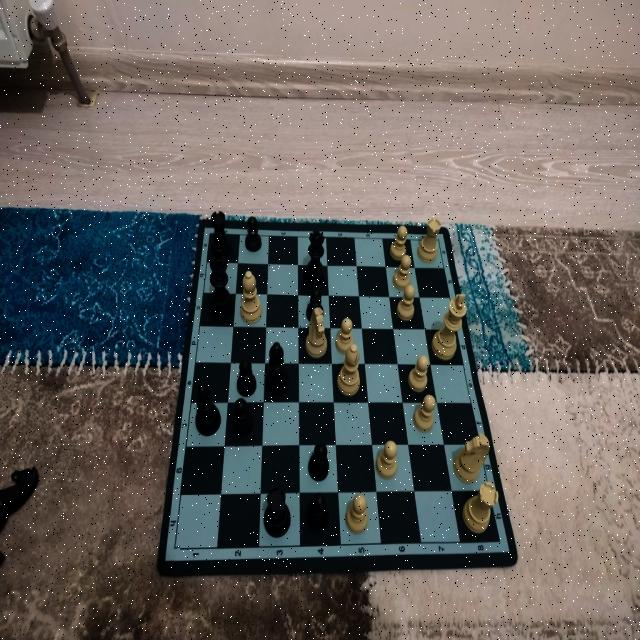corner: (493, 533, 505, 550), (203, 226, 216, 240), (168, 544, 180, 556), (433, 234, 443, 247)
